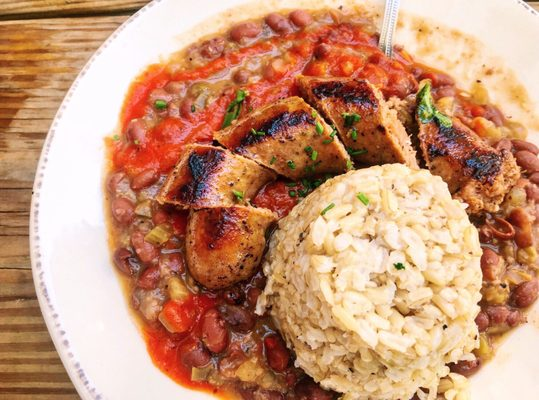curry: (1, 0, 525, 395)
sandwich: (98, 1, 537, 393)
